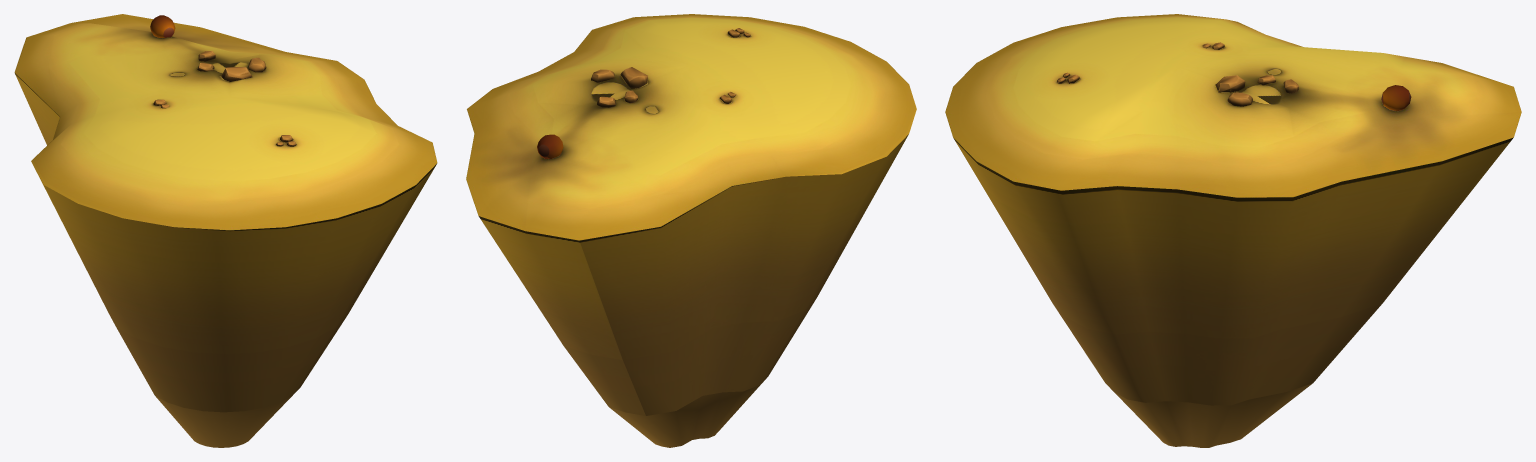
The model's file is shark attack island animated.fbx.
The picture shows the model from 3 angles, left to right: view 1: azimuth 30°, elevation 25°; view 2: azimuth 150°, elevation 25°; view 3: azimuth 270°, elevation 25°; orthographic projection. The views are drawn at different scales.
Parts seen in each view (by area): view 1: island, coconut; view 2: island, coconut; view 3: island, coconut.
Boxes of the visible parts, x1,y1,x2,y2 form: island: (14, 14, 437, 447); coconut: (150, 15, 175, 37); island: (466, 14, 916, 447); coconut: (537, 134, 563, 158); island: (945, 14, 1521, 447); coconut: (1381, 85, 1411, 111).
Bounding box in the file's own units: 0.5449 × 0.53 × 0.7223.
2 materials, 2 textured.
